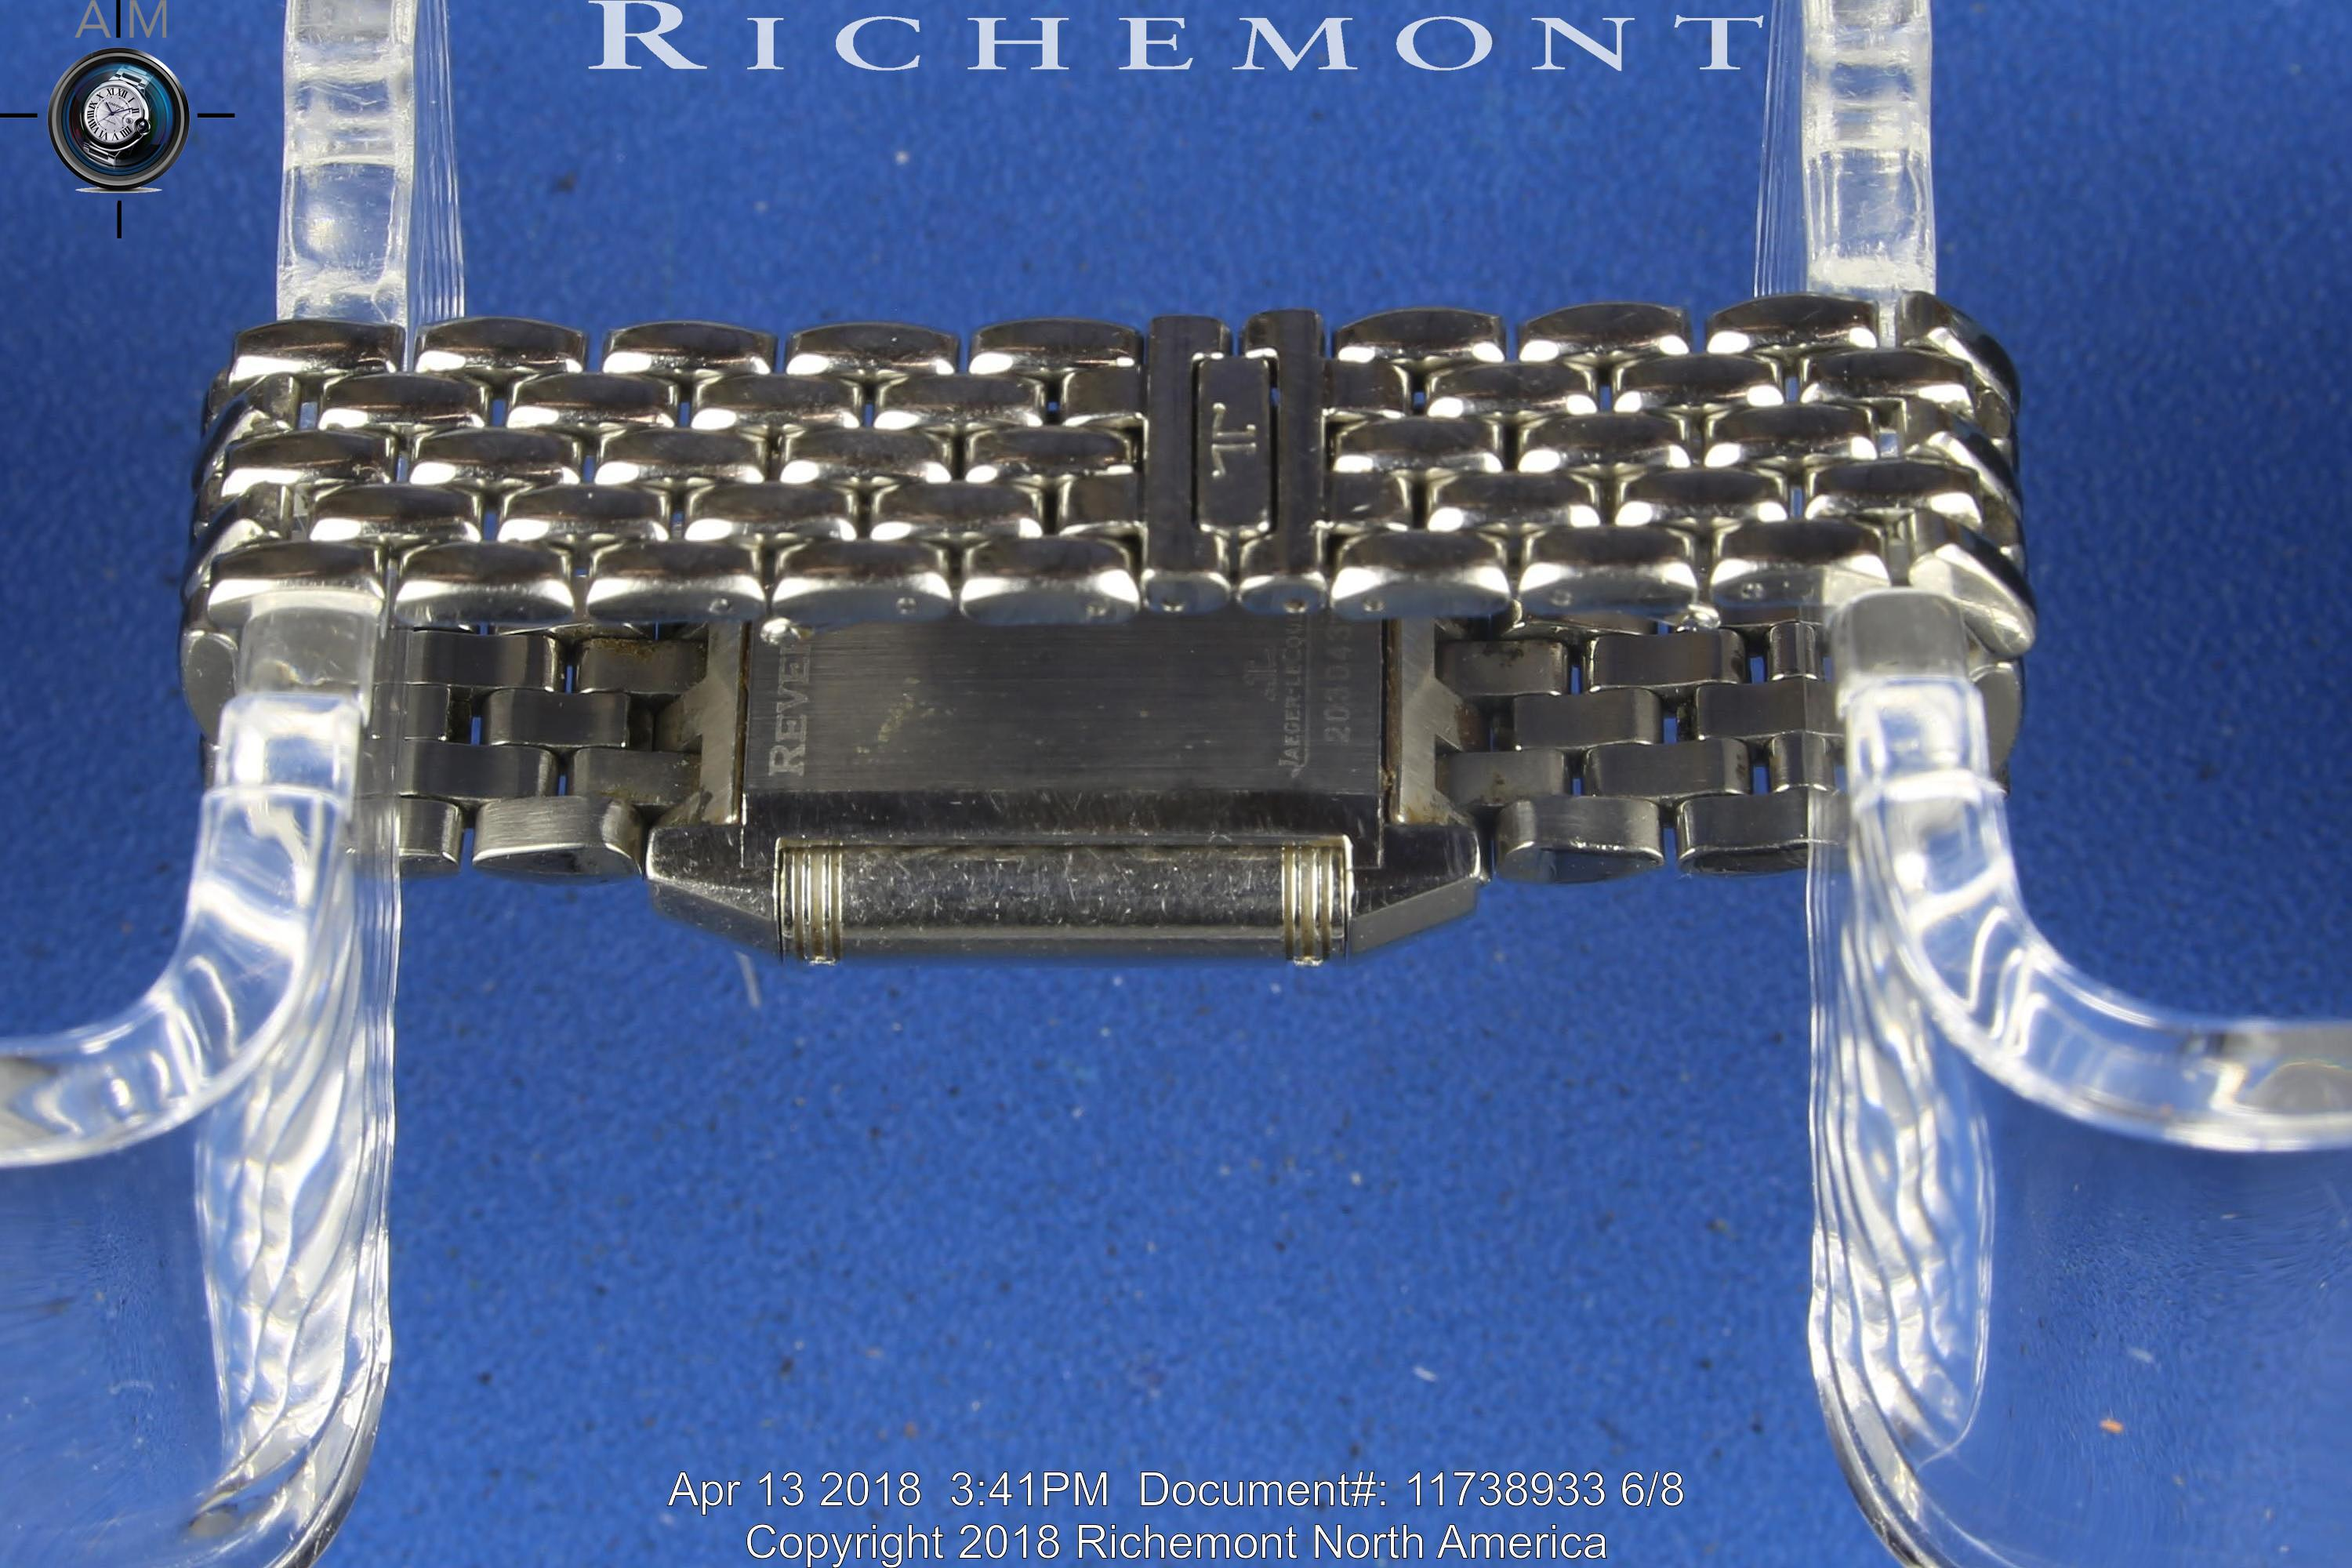Watch Back Case: (649, 618, 1493, 978)
